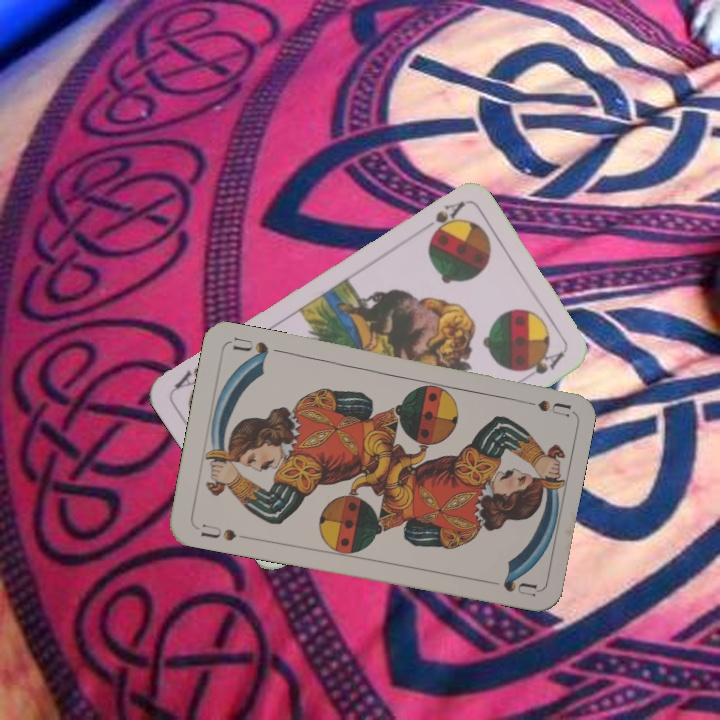SA: (414, 197, 467, 234)
SU: (512, 394, 571, 420), (196, 519, 239, 544)
